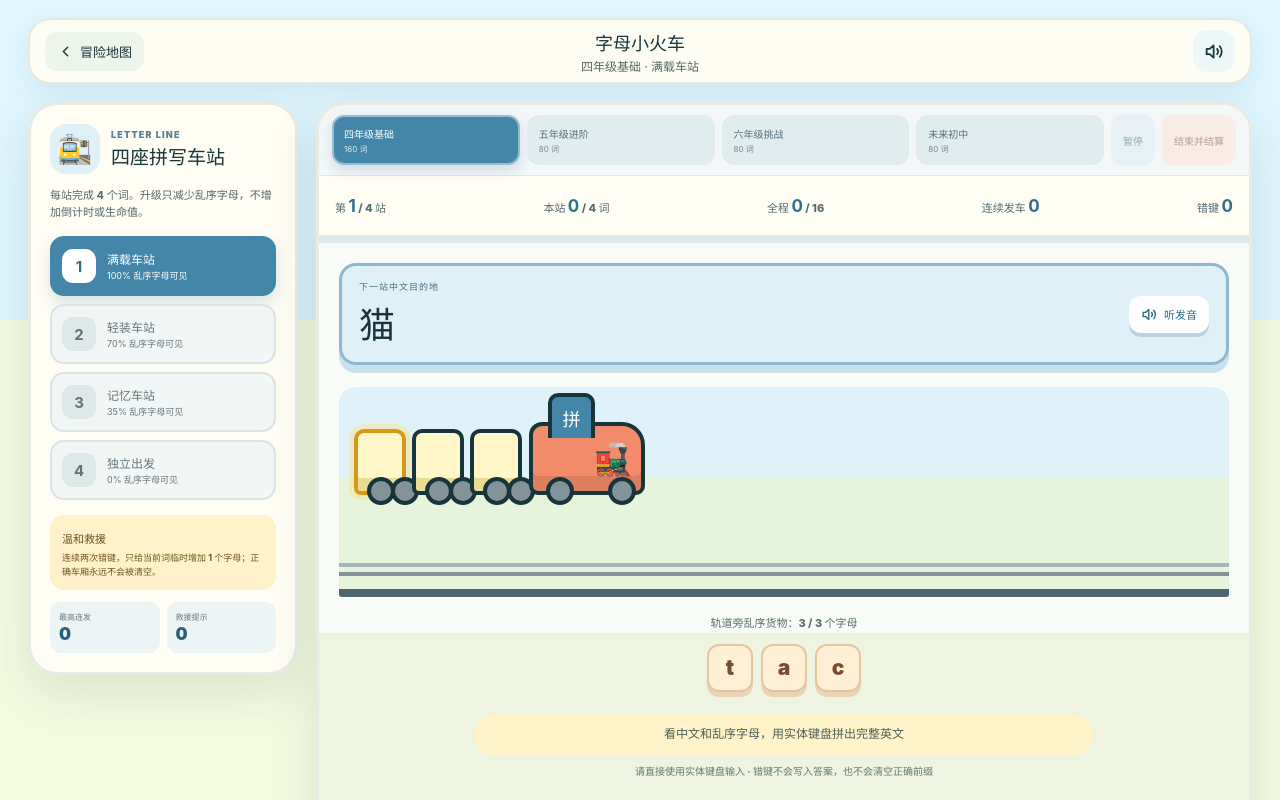
Test: SpellGamePage › pauses shared typing and resumes from the same carriage
The width and height of the screenshot is (1280, 800).
Step 1. Press c
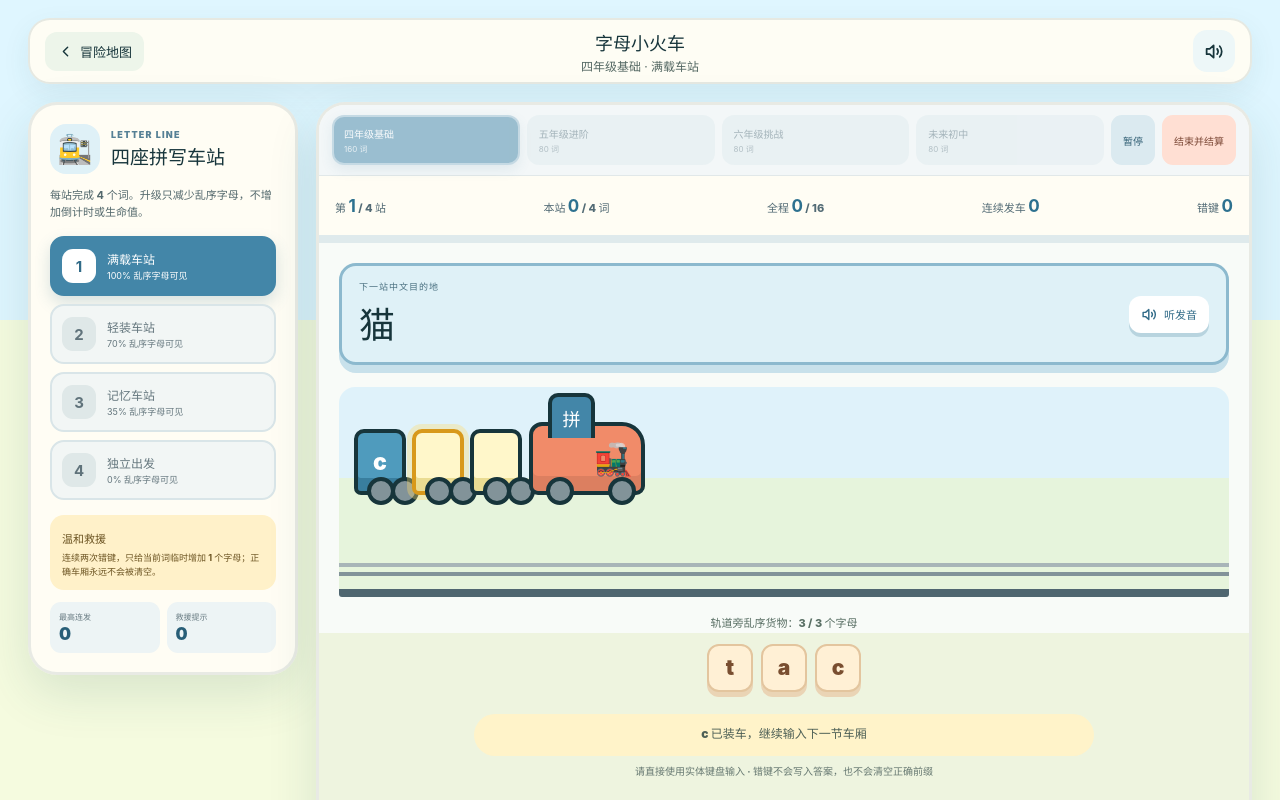
Step 2. Click the button "暂停" → (1133, 140), box [1111,115,1155,165]
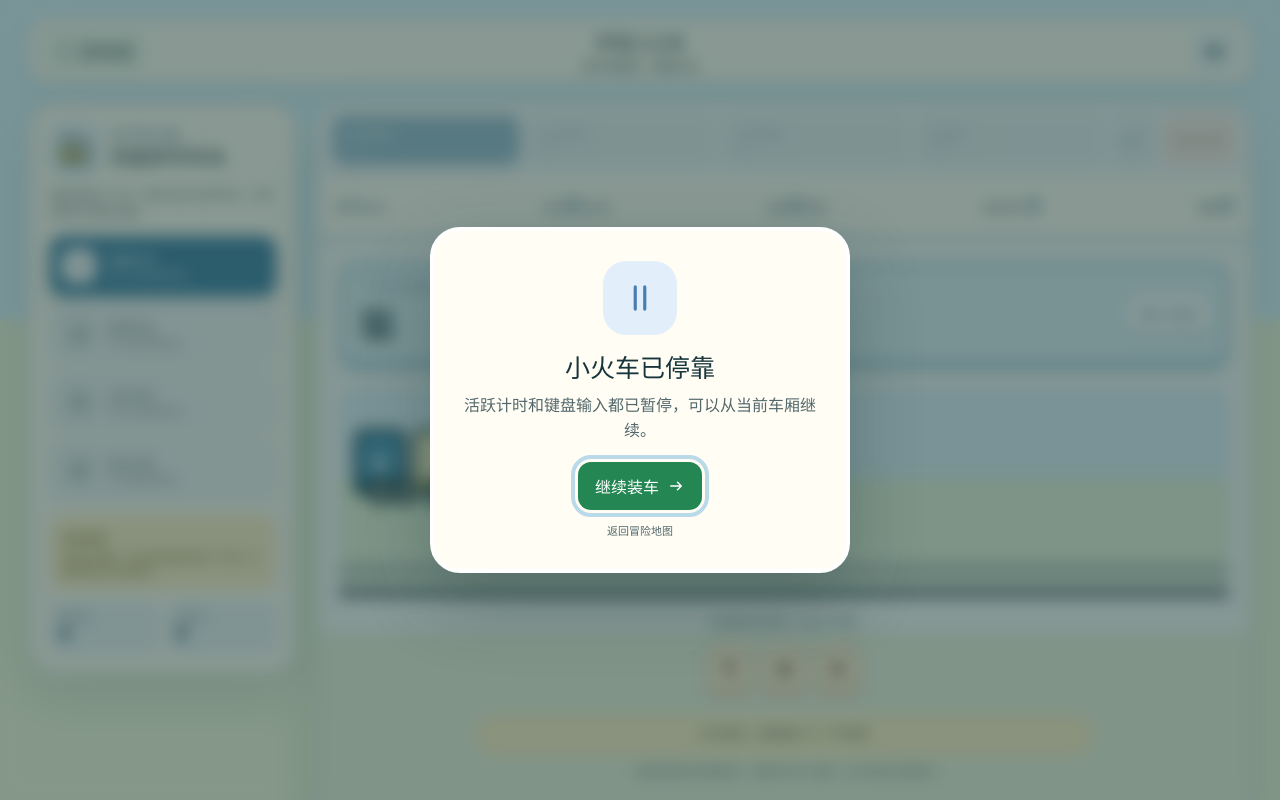
Check: the dialog "小火车已停靠" is shown
Step 3. Press a
Check: the number of elements with class "filled" is 1, box [354,429,406,495]
Step 4. Click the button "继续装车" → (640, 486), box [578,462,702,510]
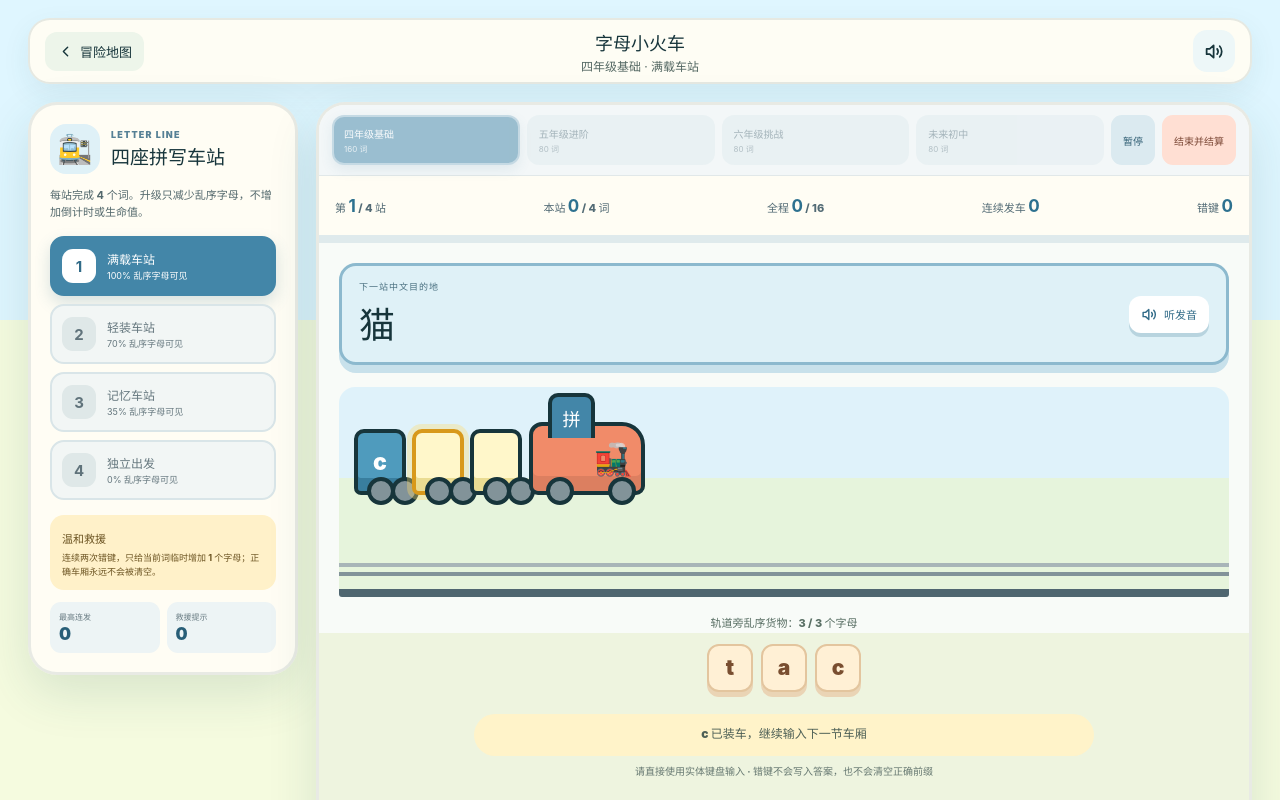
Step 5. Press a
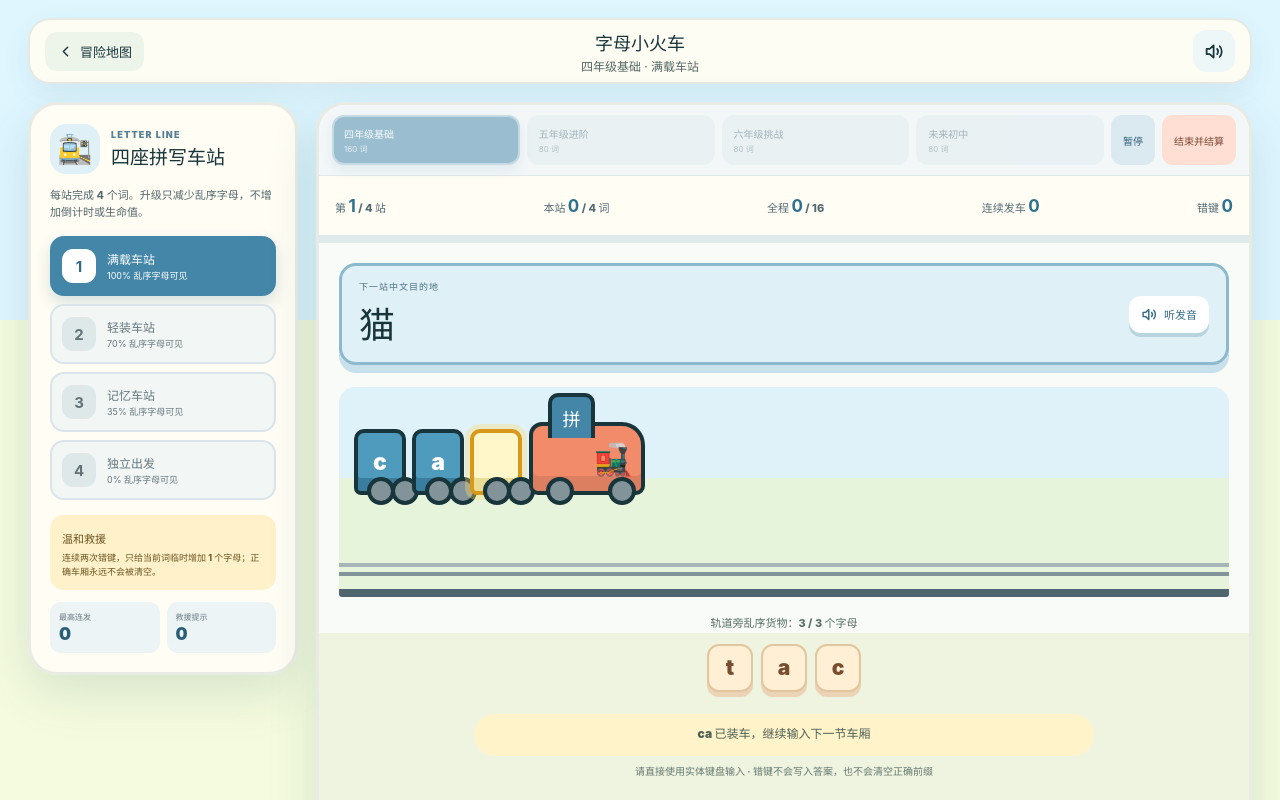
Step 6. Press t
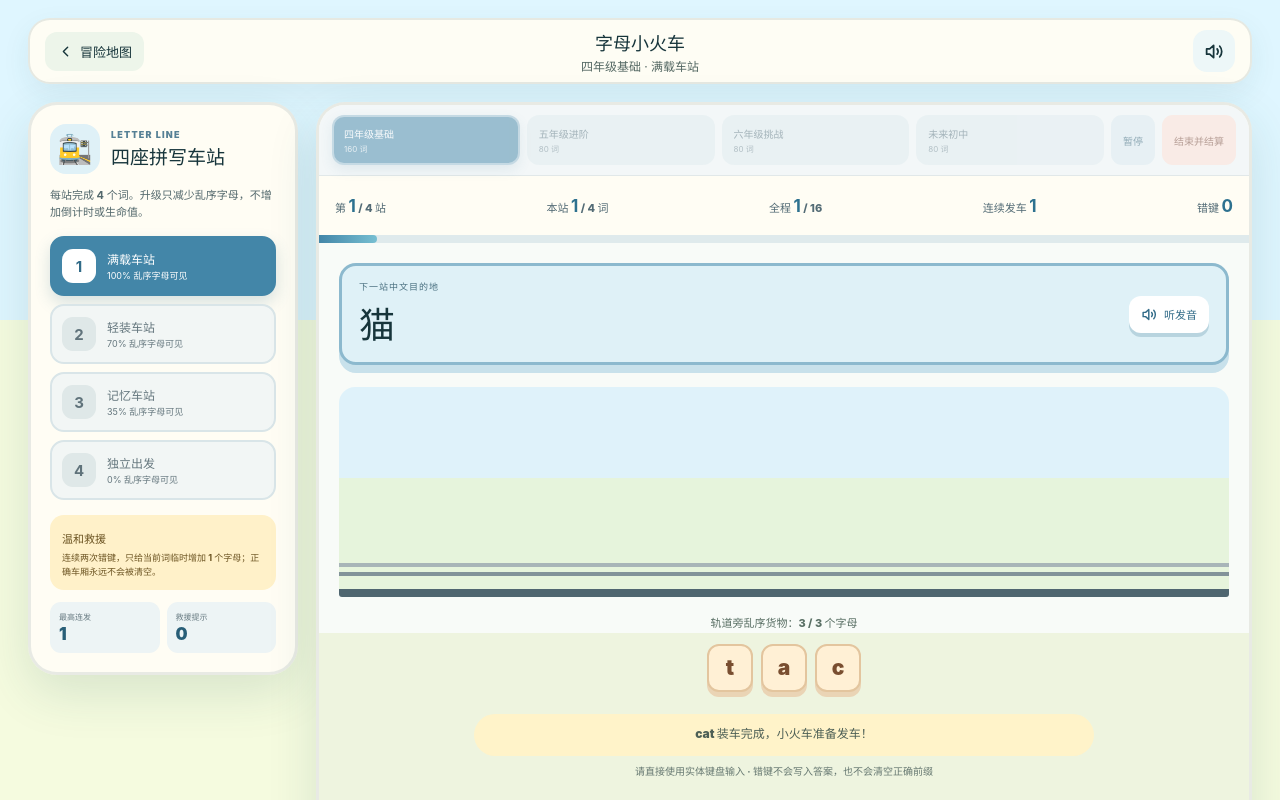
Check: the text "cat 装车完成，小火车准备发车！" is shown, box [474,714,1094,756]
